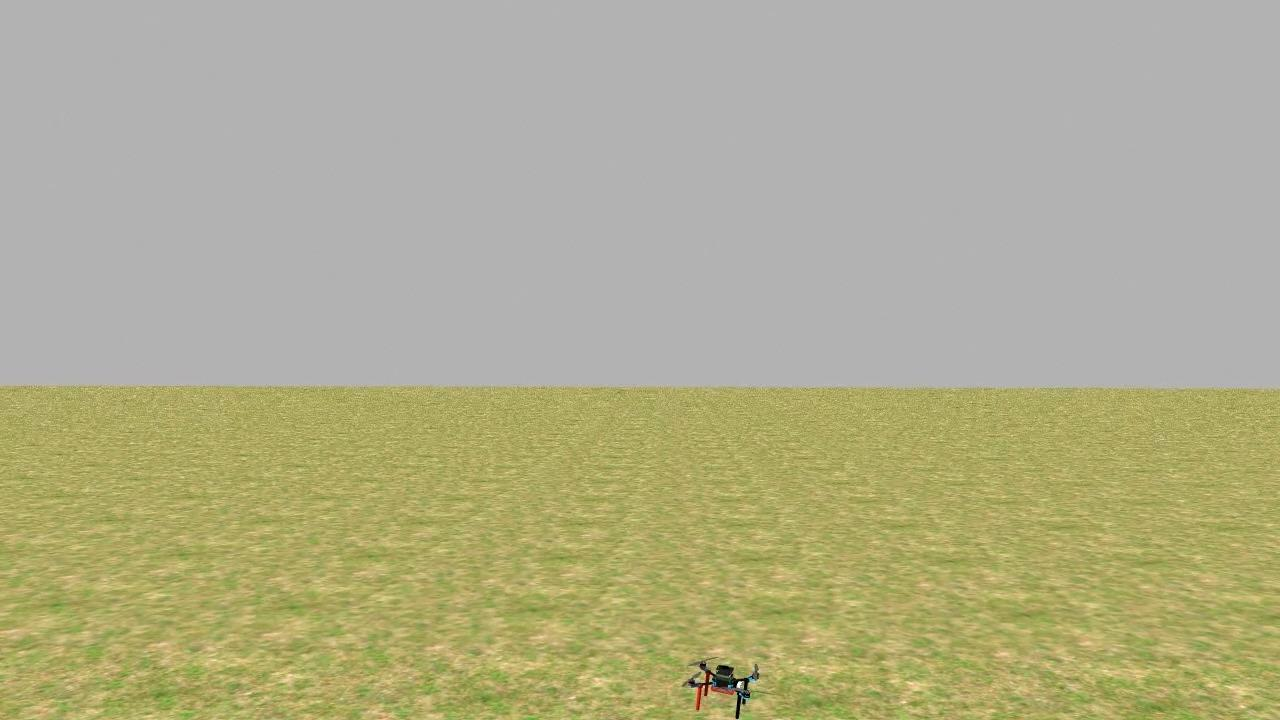UAV: (674, 652, 766, 720)
